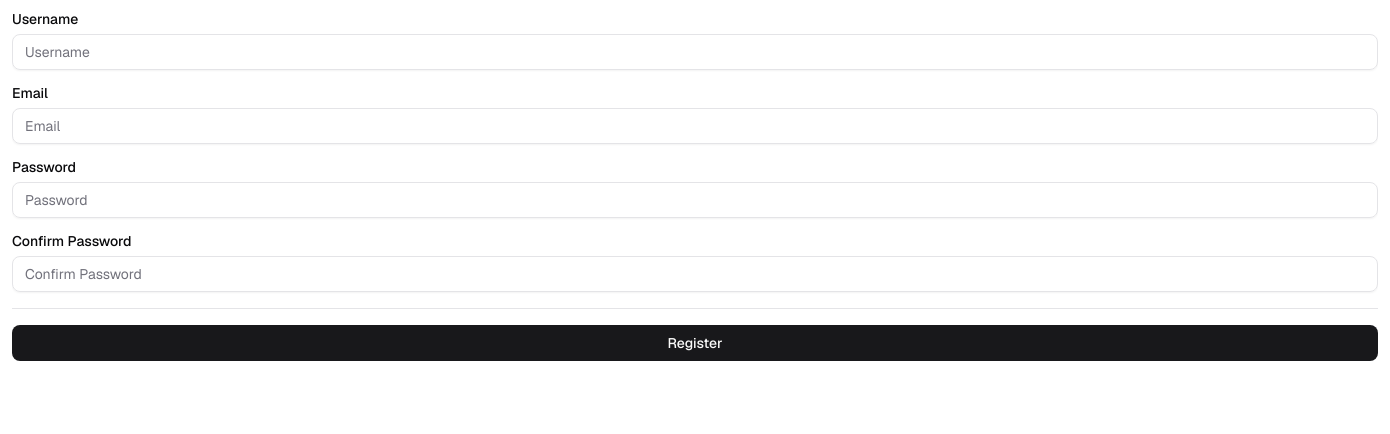
Test: RegisterForm - Integration Tests › handles password length validation
Type "testuser" into the field with placeholder "Username". click: {"x": 695, "y": 52}
box: [12,34,1378,70]
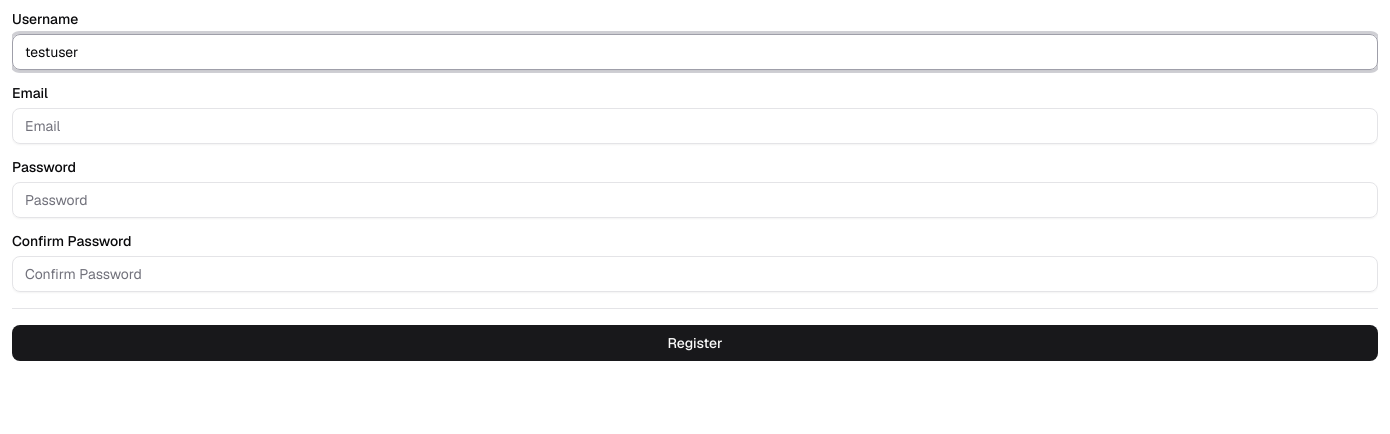
Type "test@example.com" into the field with placeholder "Email". click: {"x": 695, "y": 126}
box: [12,108,1378,144]
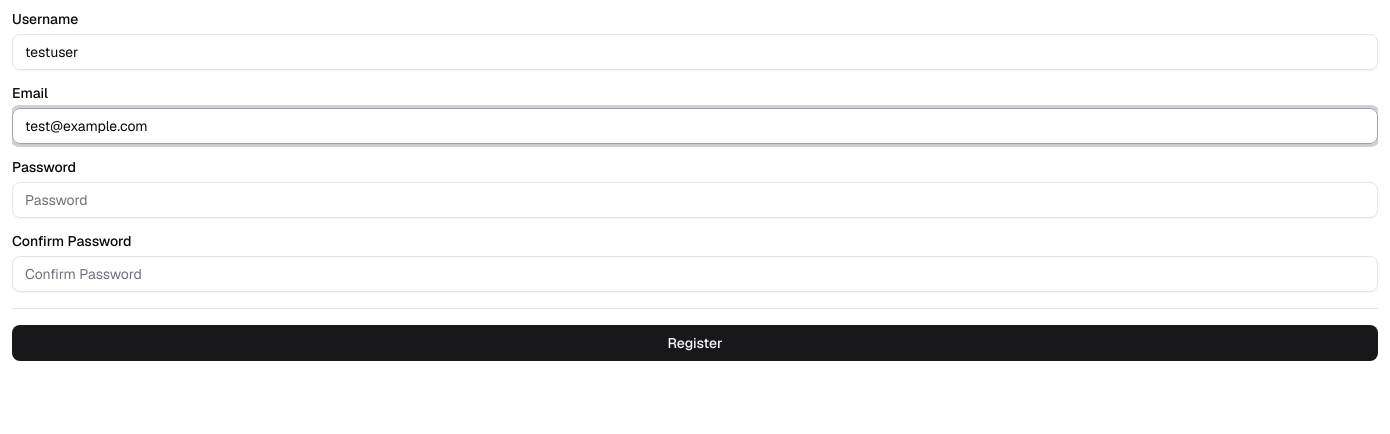
Type "123" into the password field with placeholder "Password". click: {"x": 695, "y": 200}
box: [12,182,1378,218]
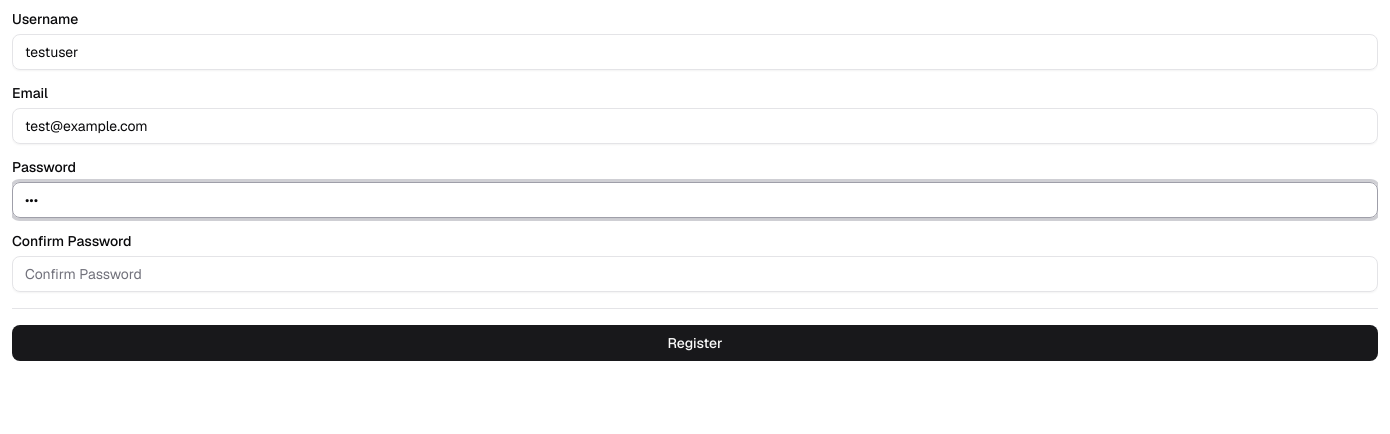
Type "password123" into the password field with placeholder "Confirm Password". click: {"x": 695, "y": 274}
box: [12,256,1378,292]
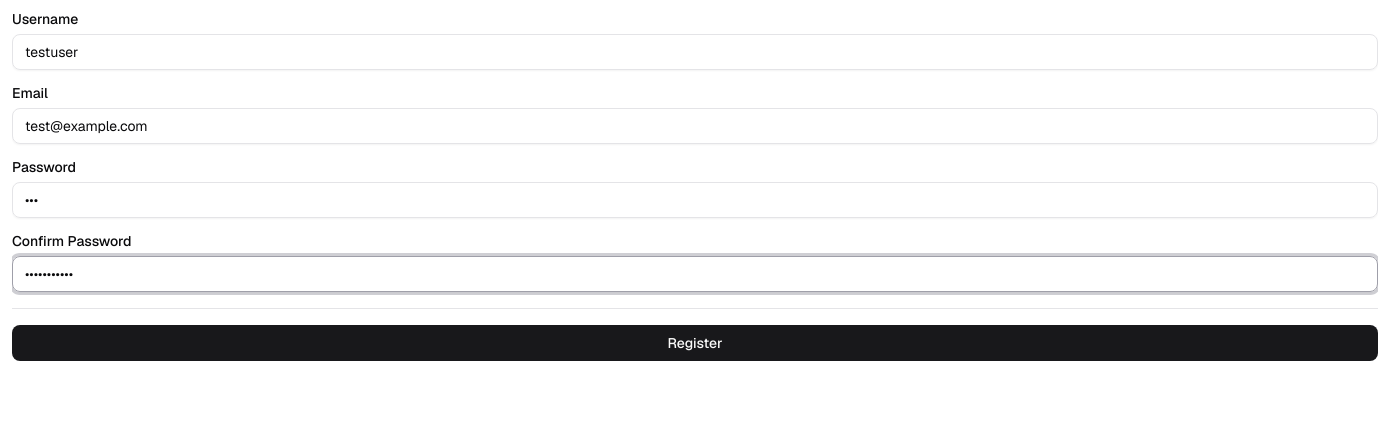
Click the button "Register". click: {"x": 695, "y": 343}
box: [12,325,1378,361]
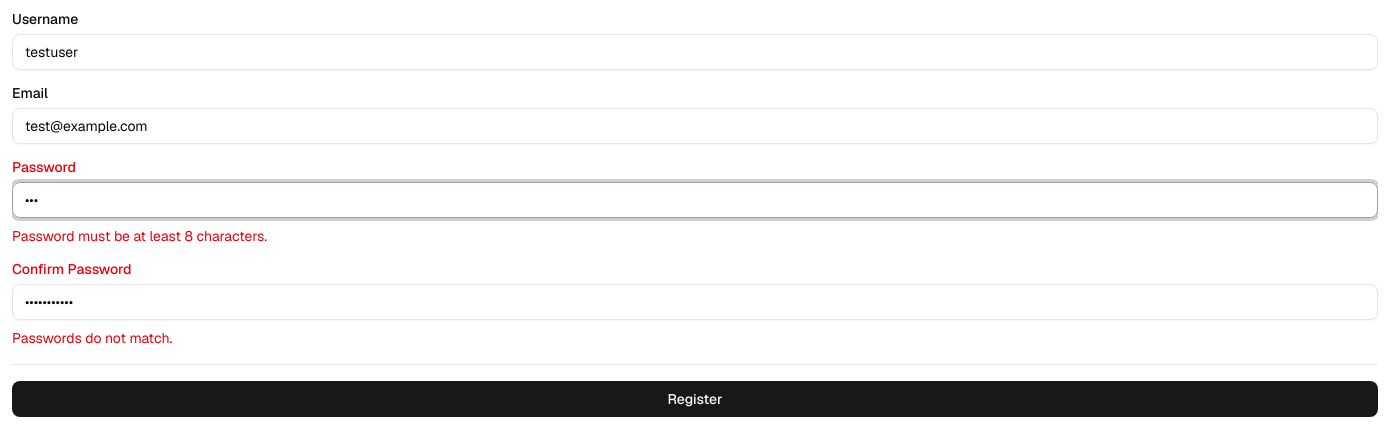
Result: the text "Password must be at least 8 characters." is shown at [12,227,267,245]
